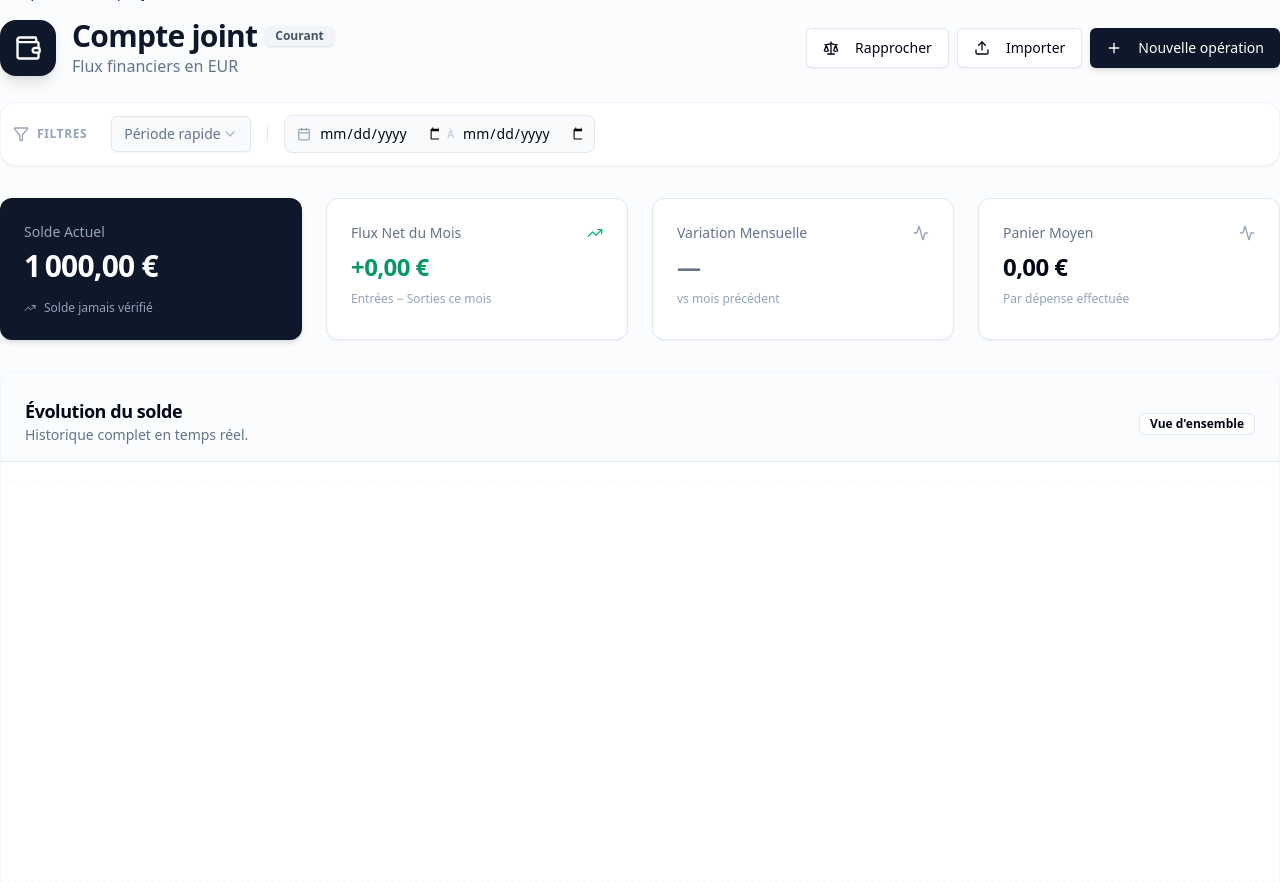
Test: AccountDetail : transactions › création : montant positif, type, date naïve sans Z, toast et liste rechargée
This screenshot has width=1280, height=882.
Check: the heading "Compte joint" is shown, box [72,18,257,54]
Click the button "Nouvelle opération" at {"x": 1185, "y": 48}, box [1090,28,1279,68]
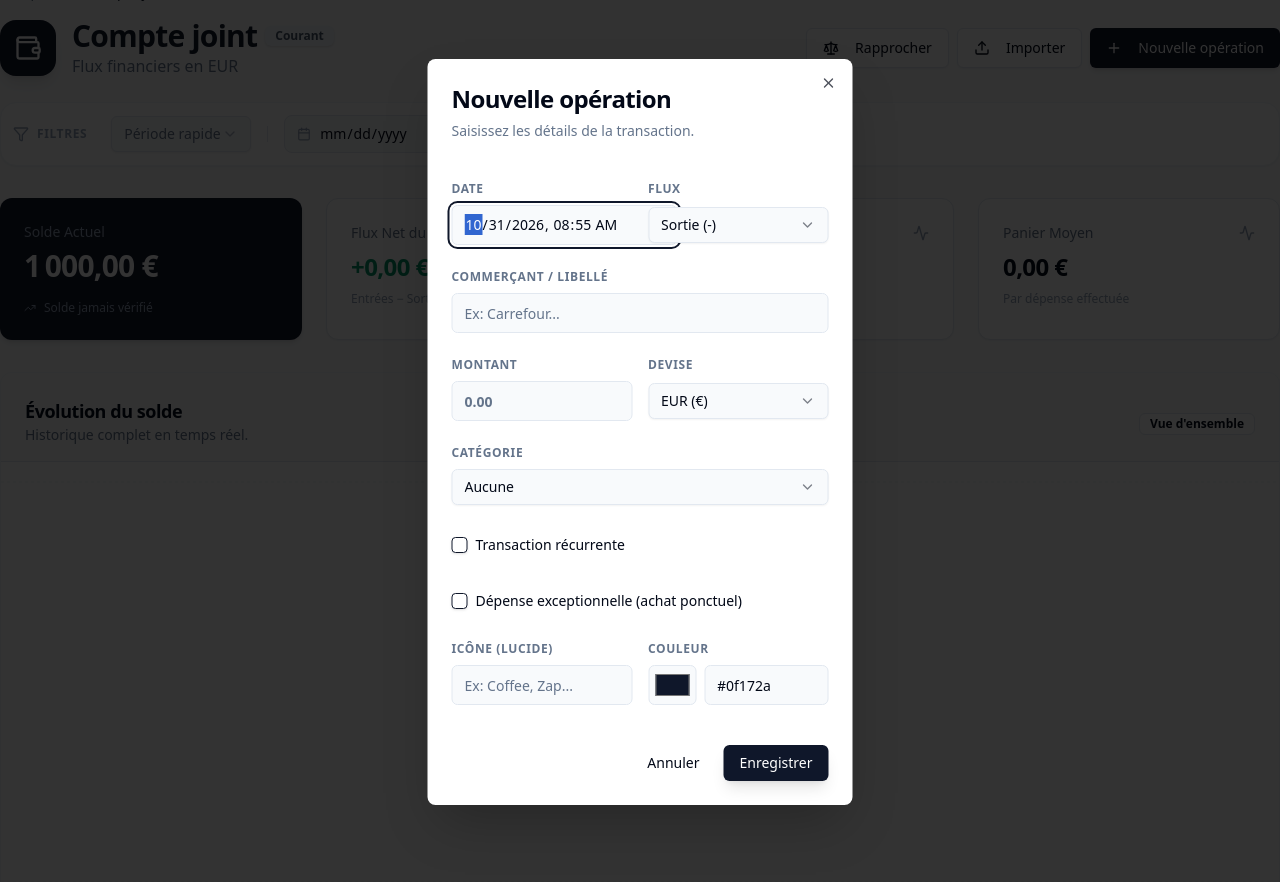
Replace the text in the field labelled "Date" with "2026-06-20T23:30" at {"x": 564, "y": 225}, box [452,205,678,245]
Click the dropdown named "Flux" at {"x": 738, "y": 225}, box [648,207,828,243]
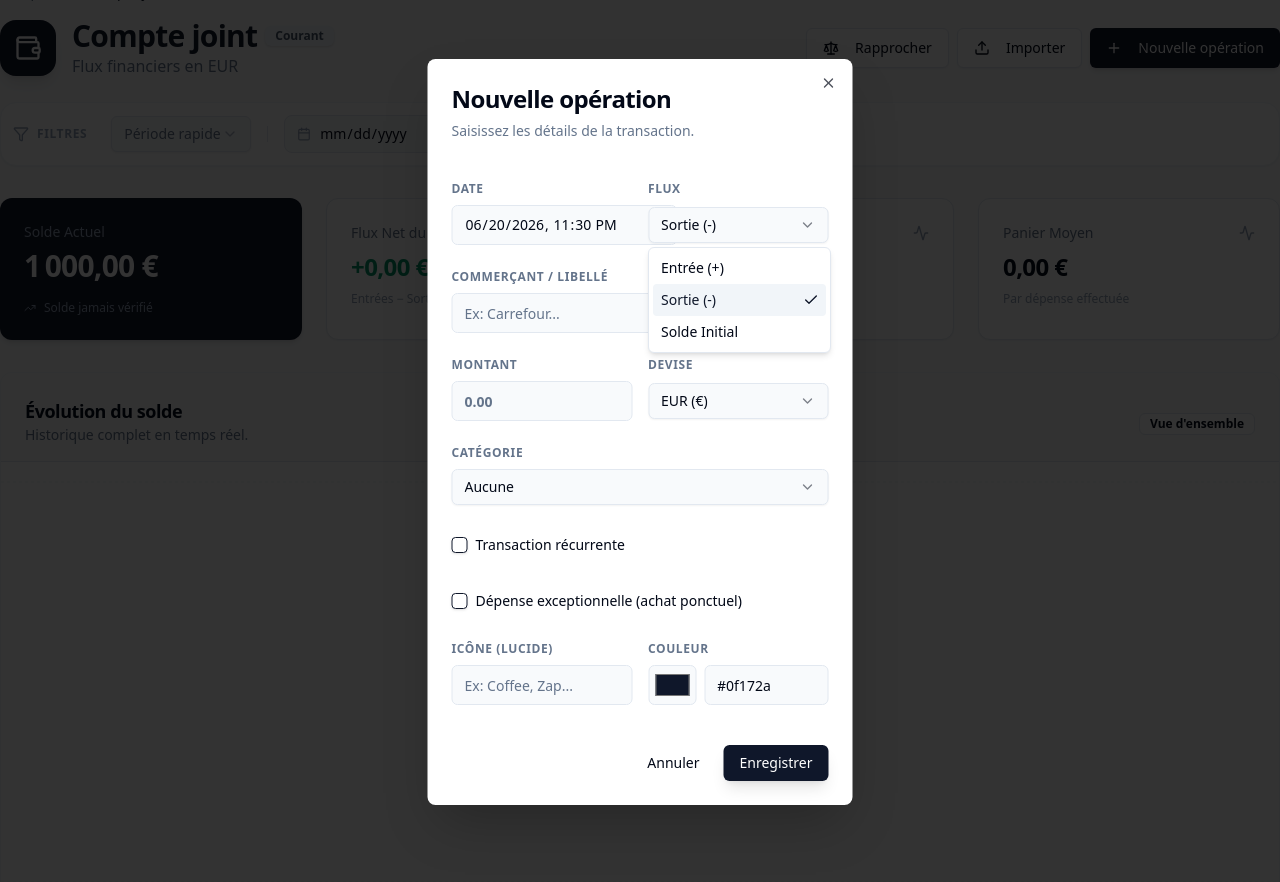
Click the option "Entrée (+)" at {"x": 692, "y": 268}, box [661,258,724,277]
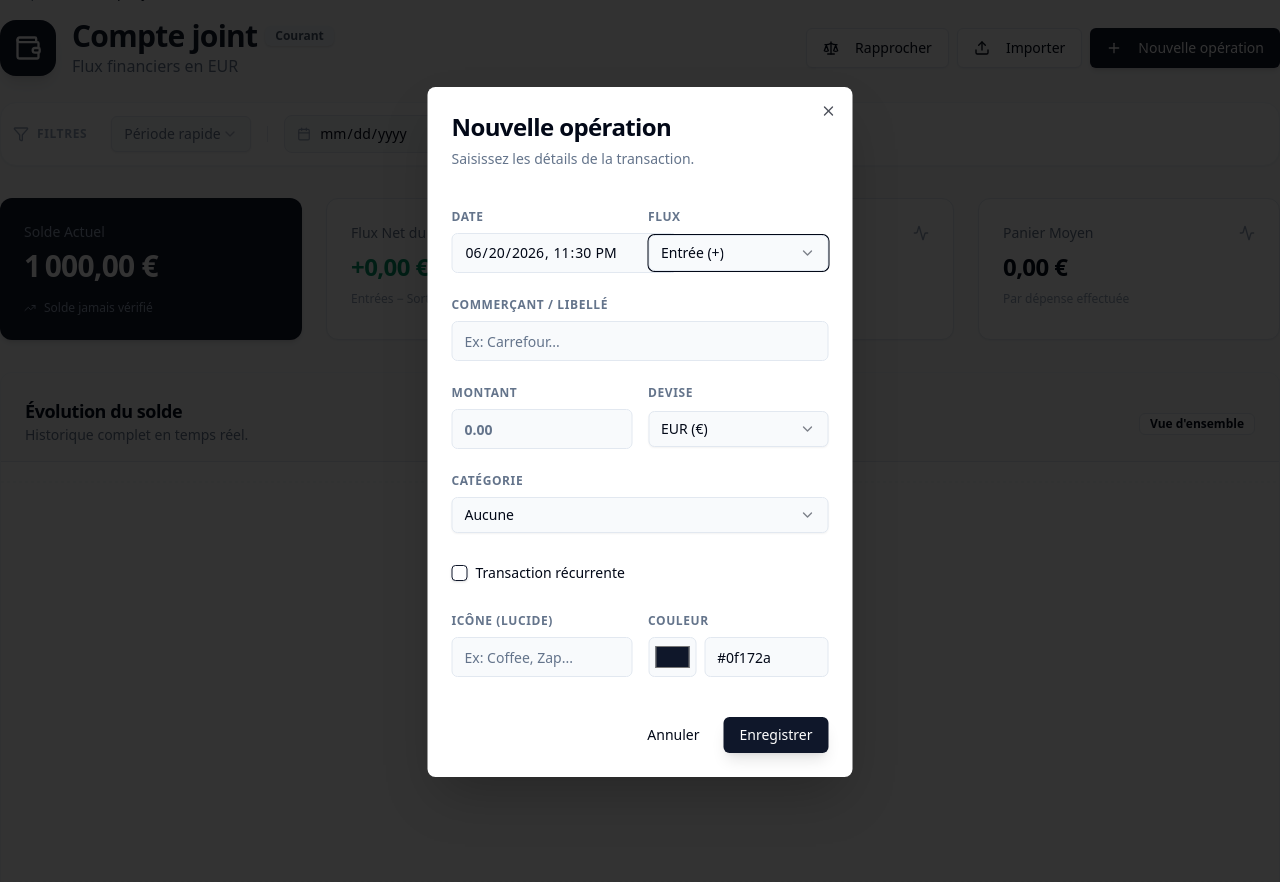
Type "Remboursement" into the field labelled "Commerçant / Libellé" at {"x": 640, "y": 341}, box [452,321,828,361]
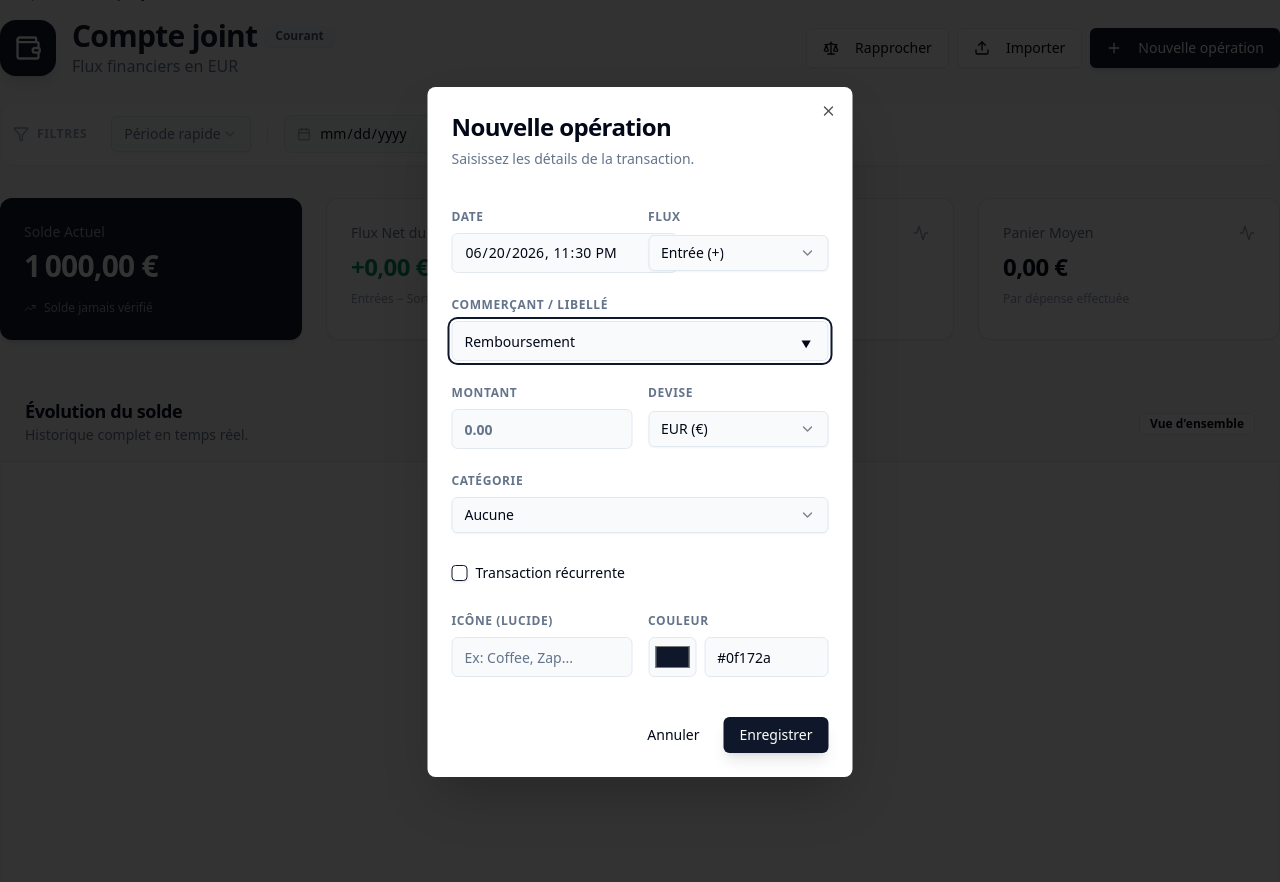
Type "12.5" into the number field labelled "Montant" at {"x": 542, "y": 429}, box [452,409,632,449]
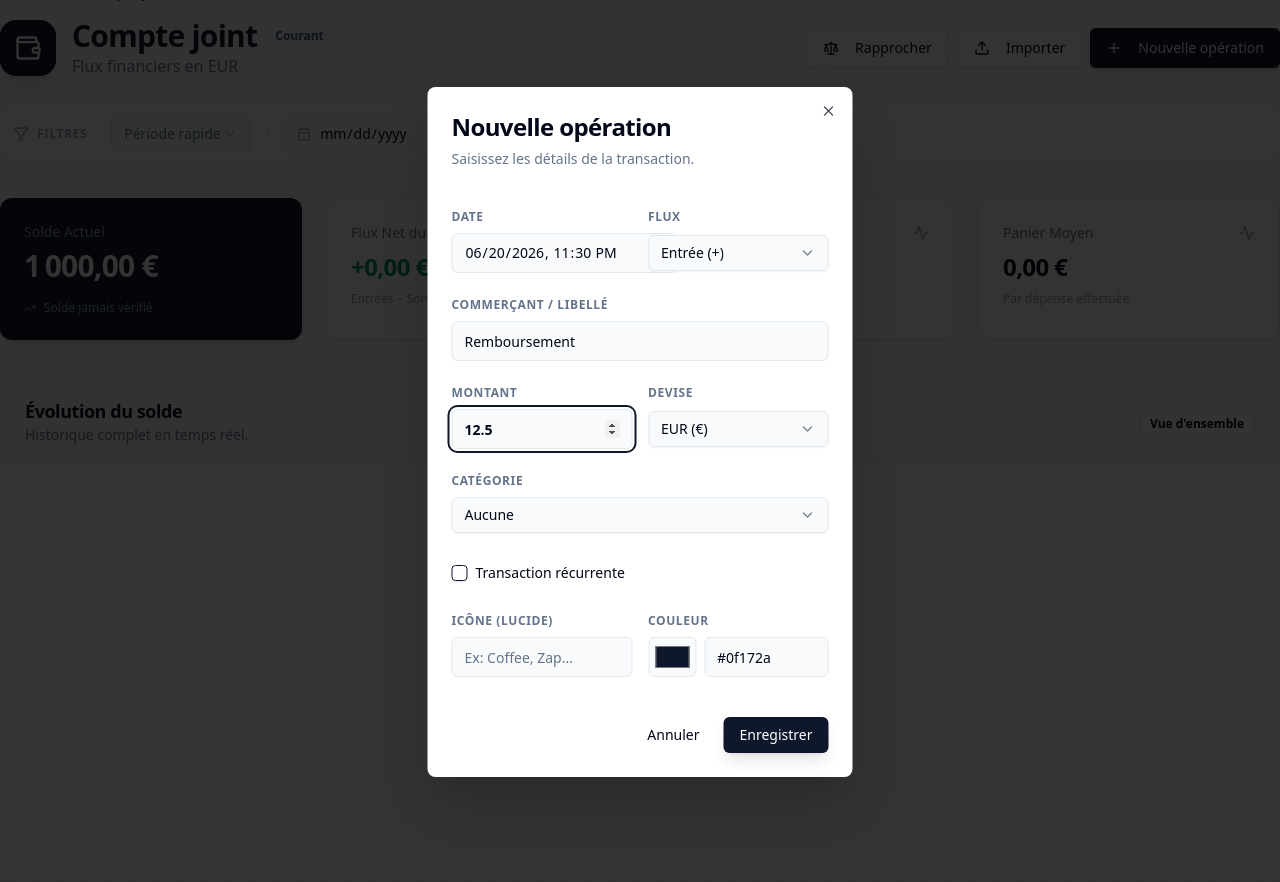
Click the button "Enregistrer" at {"x": 776, "y": 735}, box [724,717,828,753]
(page scrolled)
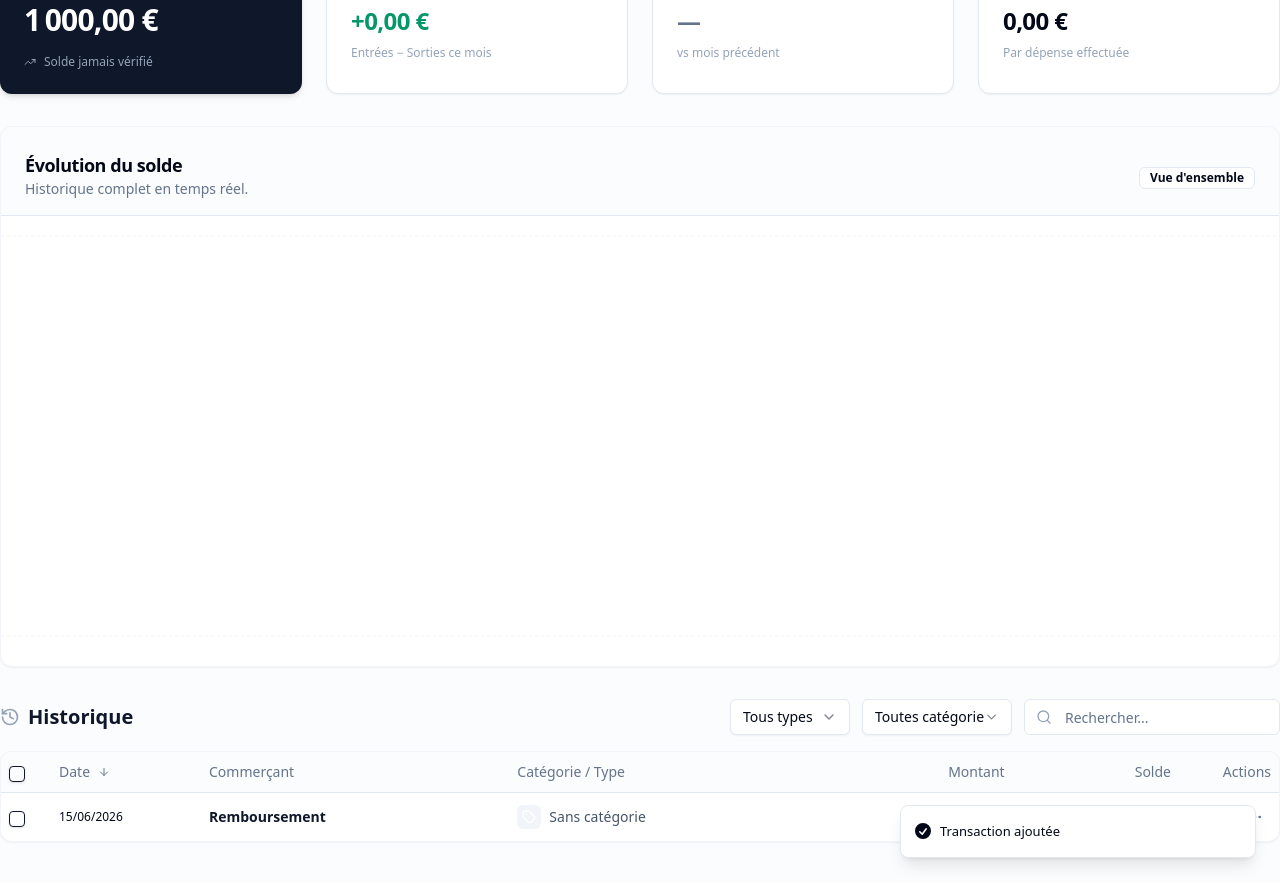
Check: the text "Transaction ajoutée" is shown, box [940,822,1060,841]
Check: the text "Remboursement" is shown, box [209,806,326,826]
Check: the dialog is gone
